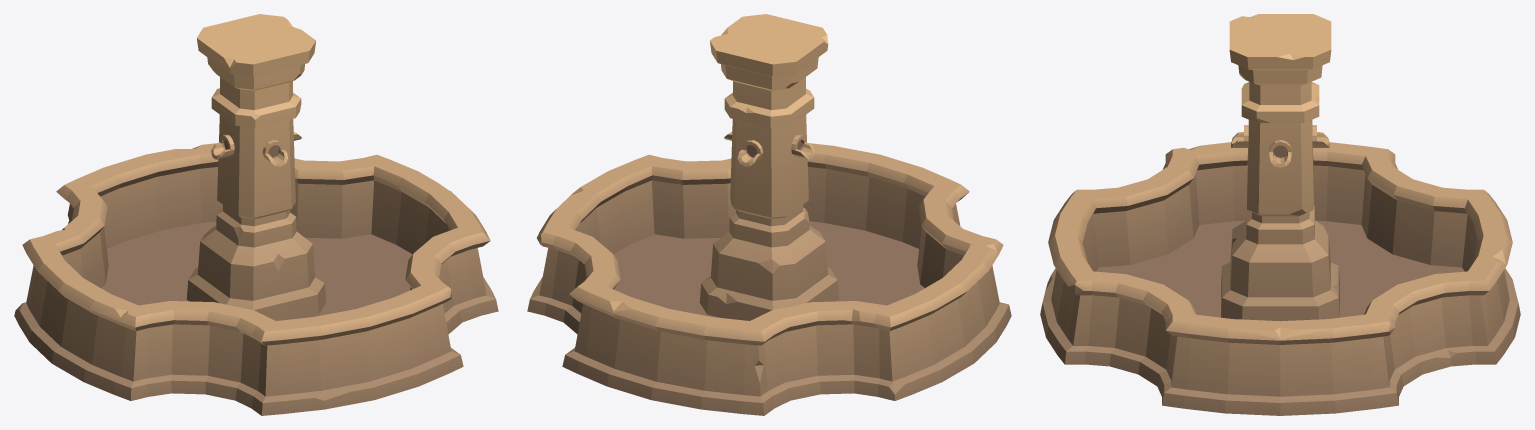
File: LP_Fountain_F.fbx
The picture shows the model from 3 angles, left to right: view 1: azimuth 30°, elevation 25°; view 2: azimuth 150°, elevation 25°; view 3: azimuth 270°, elevation 25°; orthographic projection.
Visible parts, largest first — view 1: LP_Fountain_F; view 2: LP_Fountain_F; view 3: LP_Fountain_F.
Boxes of the visible parts, x1,y1,x2,y2 form: LP_Fountain_F: (14, 14, 498, 415); LP_Fountain_F: (527, 14, 1011, 415); LP_Fountain_F: (1040, 14, 1520, 415).
Bounding box in the file's own units: 507 × 325 × 507.
